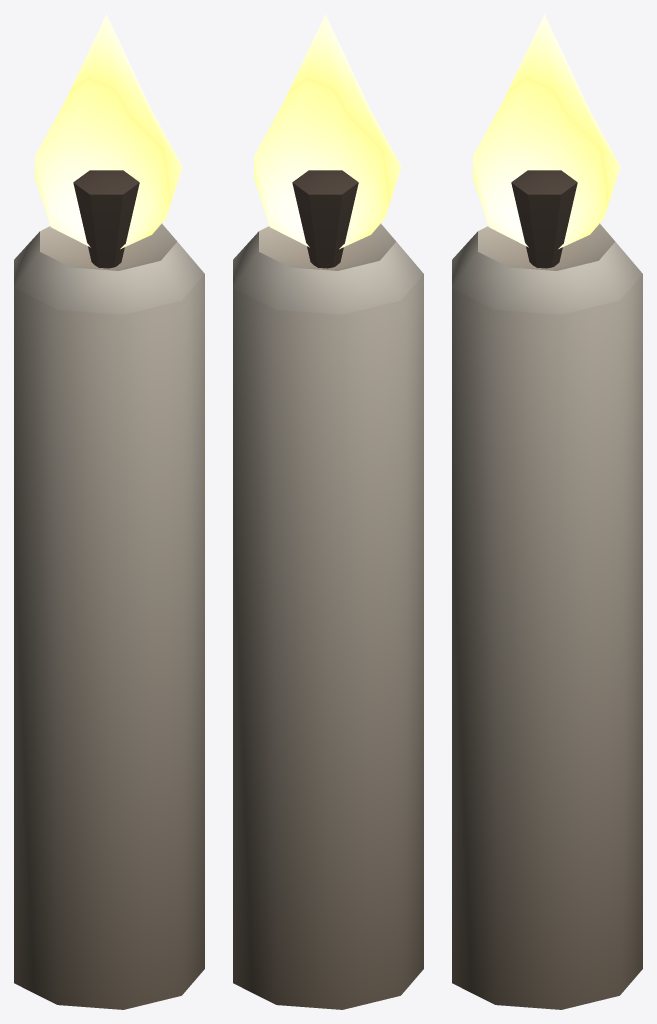
Rendered from candle-thin-lit.glb.
The picture shows the model from 3 angles, left to right: view 1: azimuth 30°, elevation 25°; view 2: azimuth 150°, elevation 25°; view 3: azimuth 270°, elevation 25°; orthographic projection.
Parts seen in each view (by area): view 1: candle-thin-lit; view 2: candle-thin-lit; view 3: candle-thin-lit.
Part boxes in pixels (bbox=[...]): candle-thin-lit: bbox=[14, 14, 204, 1009]; candle-thin-lit: bbox=[233, 14, 423, 1009]; candle-thin-lit: bbox=[452, 14, 642, 1009].
Bounding box in the file's own units: 0.0552 × 0.3 × 0.0543.
